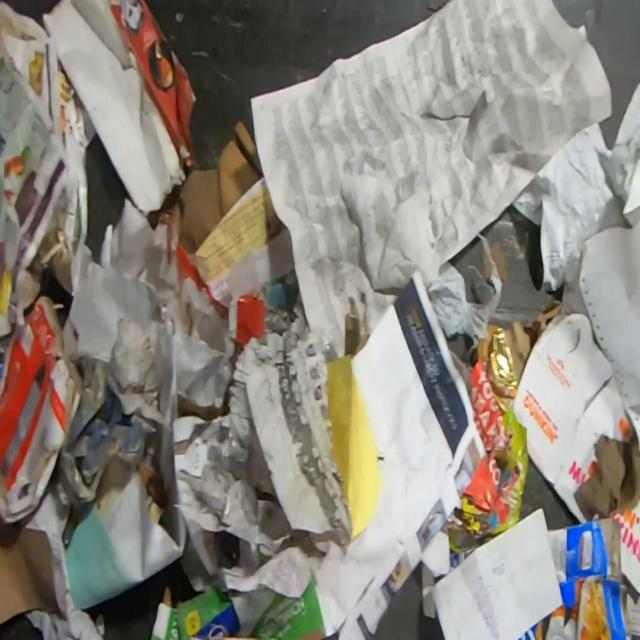cardboard: (38, 0, 198, 217), (512, 310, 634, 523), (0, 291, 84, 523), (518, 516, 633, 640), (176, 115, 264, 256), (150, 570, 326, 640), (0, 513, 62, 629), (504, 298, 562, 387), (609, 496, 640, 596), (476, 323, 497, 363)
metal: (486, 324, 516, 397)
soft_plastic: (426, 231, 504, 363)
